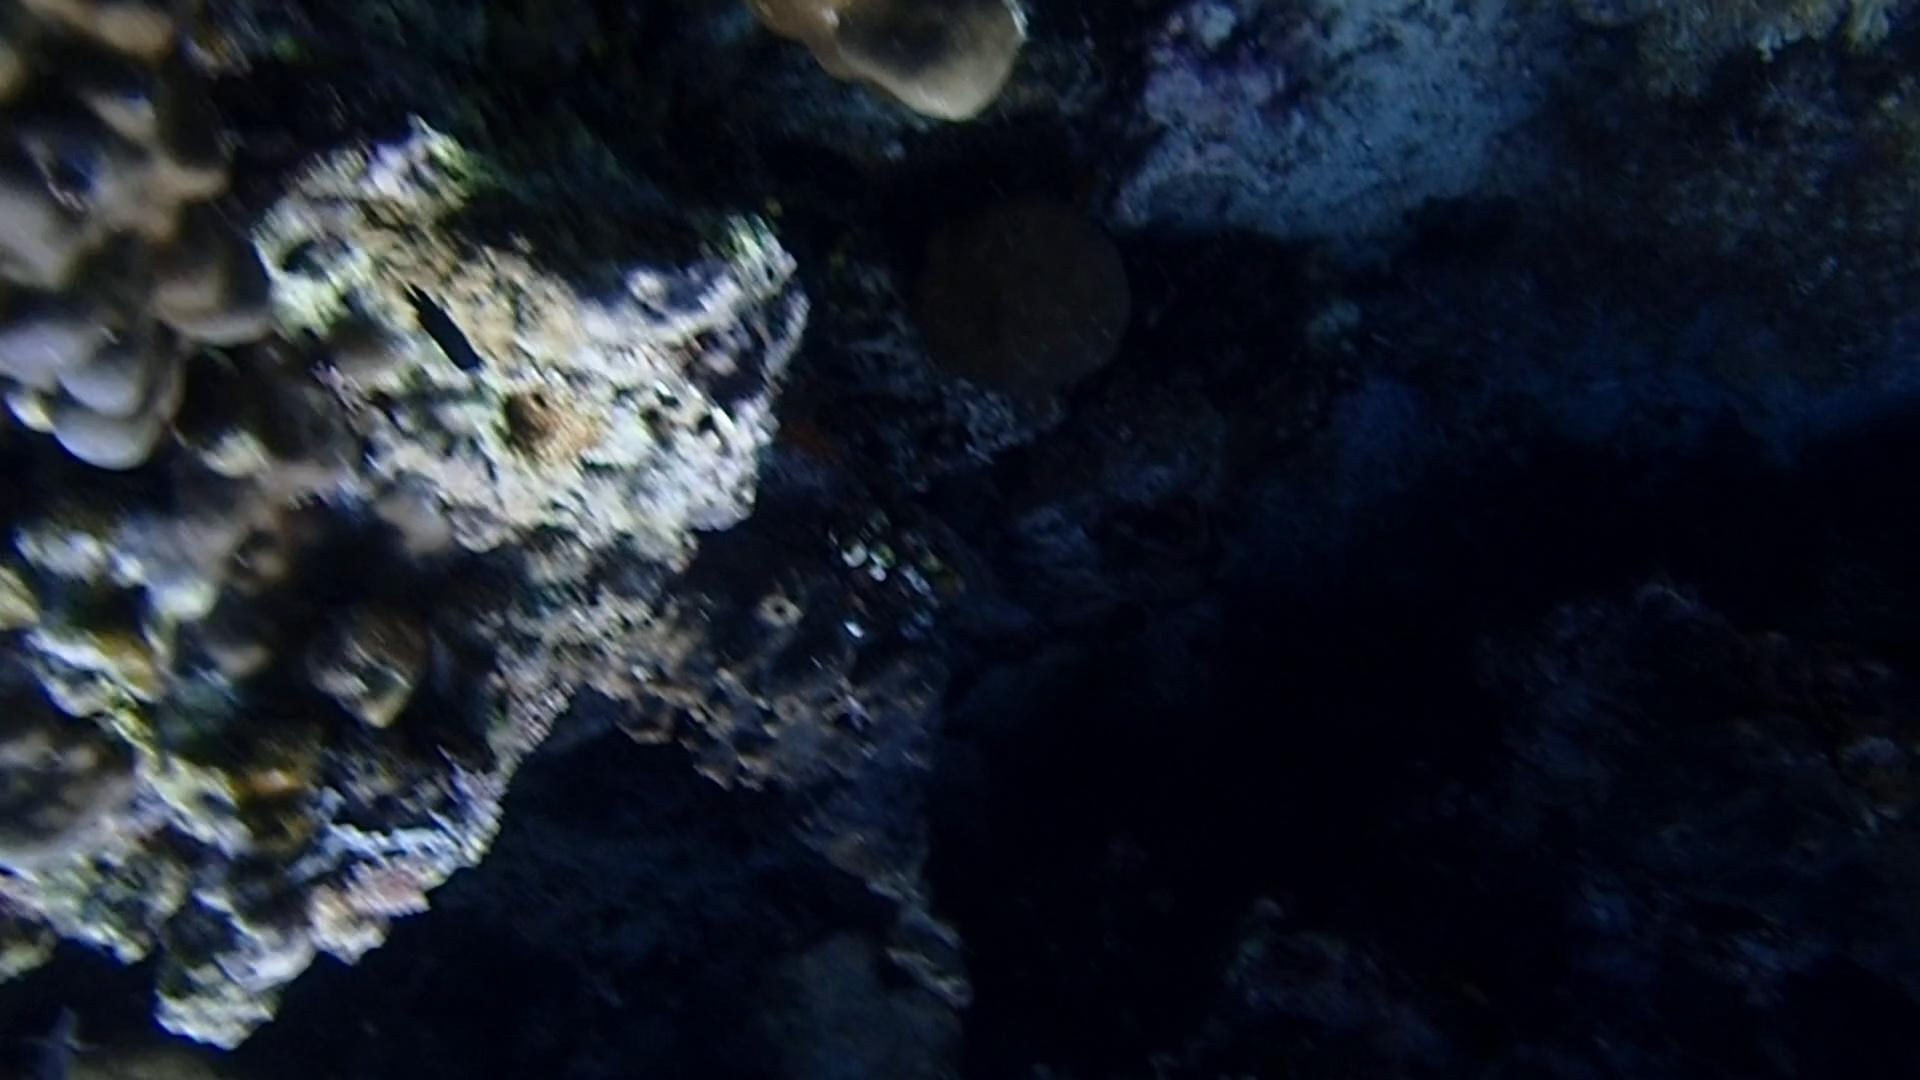Dark Fish: (386, 266, 510, 385)
